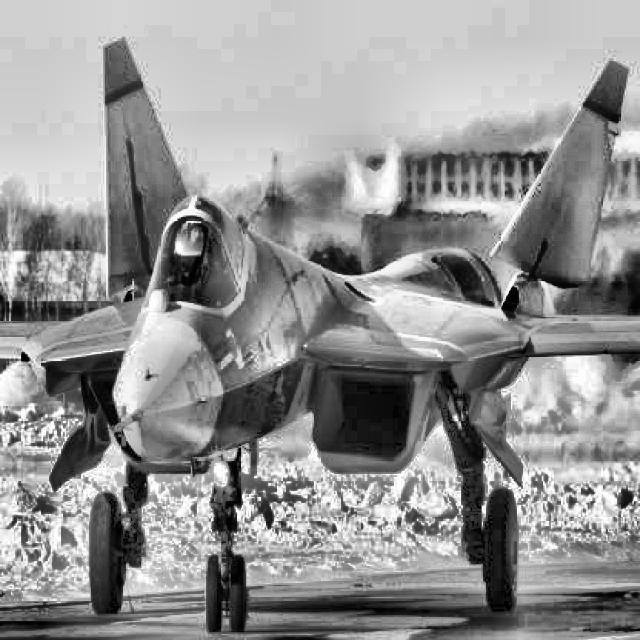Su57: (0, 36, 640, 633)
